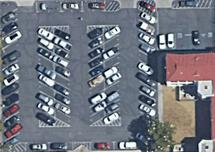parkingspot: (0, 7, 22, 144), (137, 7, 158, 124), (86, 25, 106, 127), (102, 24, 122, 126), (53, 25, 72, 128), (37, 25, 56, 127), (157, 32, 215, 51), (36, 0, 106, 14), (89, 140, 140, 152), (24, 141, 74, 152)
